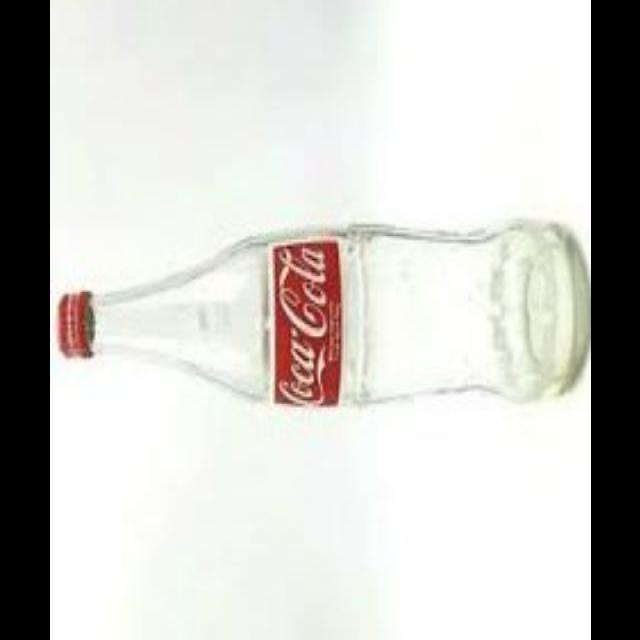Glass: (56, 212, 590, 412)
